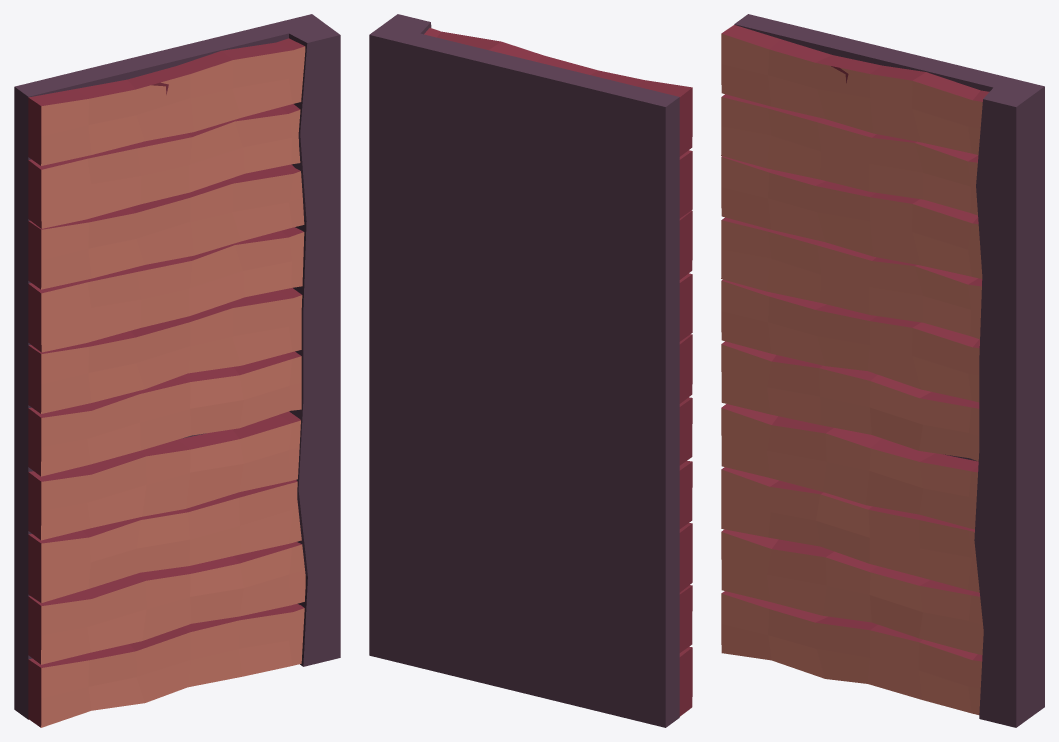
Rendered from wall_wst_Frame_R.glb.
The picture shows the model from 3 angles, left to right: view 1: azimuth 30°, elevation 25°; view 2: azimuth 150°, elevation 25°; view 3: azimuth 330°, elevation 25°; orthographic projection.
Visible parts, largest first — view 1: Cube.005, Cube.002; view 2: Cube.002, Cube.005; view 3: Cube.005, Cube.002.
Boxes of the visible parts, x1,y1,x2,y2 form: Cube.005: (28, 38, 305, 727); Cube.002: (14, 14, 340, 719); Cube.002: (369, 14, 679, 727); Cube.005: (424, 28, 692, 716); Cube.005: (721, 25, 989, 714); Cube.002: (734, 14, 1044, 727).
Bounding box in the file's own units: 1 × 2 × 0.1663.
Materials: 1 (1 with a texture image).
